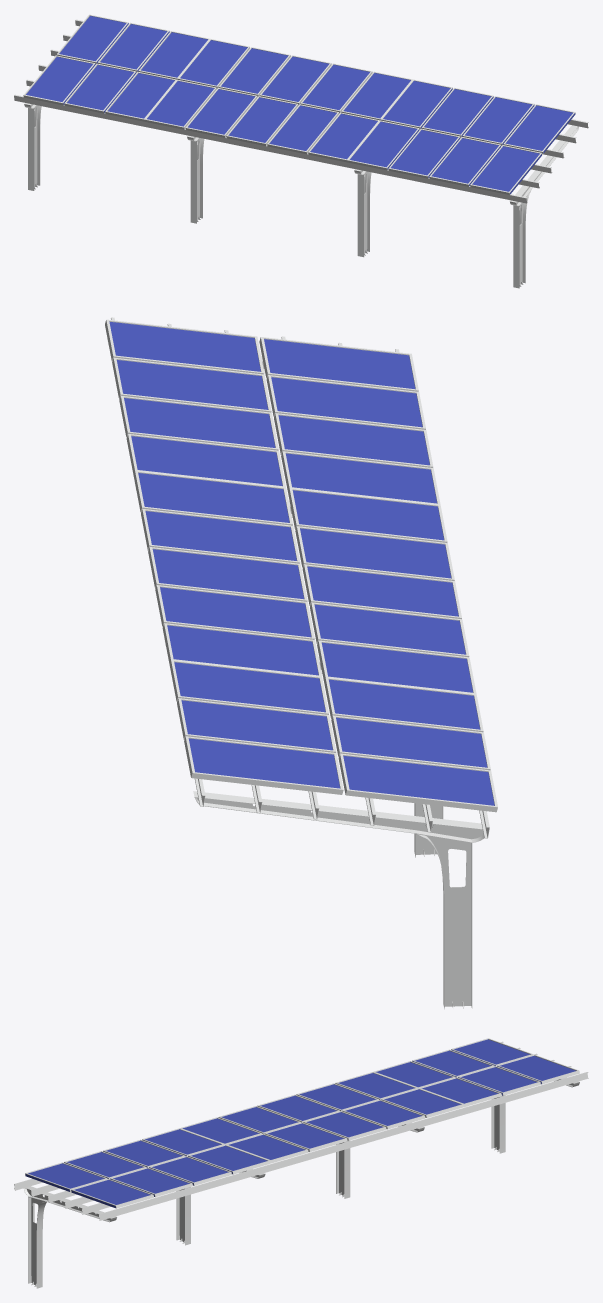
The picture shows the model from 3 angles, top to bottom: view 1: azimuth 30°, elevation 25°; view 2: azimuth 150°, elevation 25°; view 3: azimuth 270°, elevation 25°; orthographic projection. The views are drawn at different scales.
Visible parts, largest first — view 1: chepeng; view 2: chepeng; view 3: chepeng.
Part boxes in pixels (left/top/right/bottom): chepeng: left=14, top=14, right=588, bottom=288; chepeng: left=105, top=317, right=497, bottom=1009; chepeng: left=14, top=1038, right=588, bottom=1288.
Bounding box in the file's own units: 1265 × 386 × 1573.
